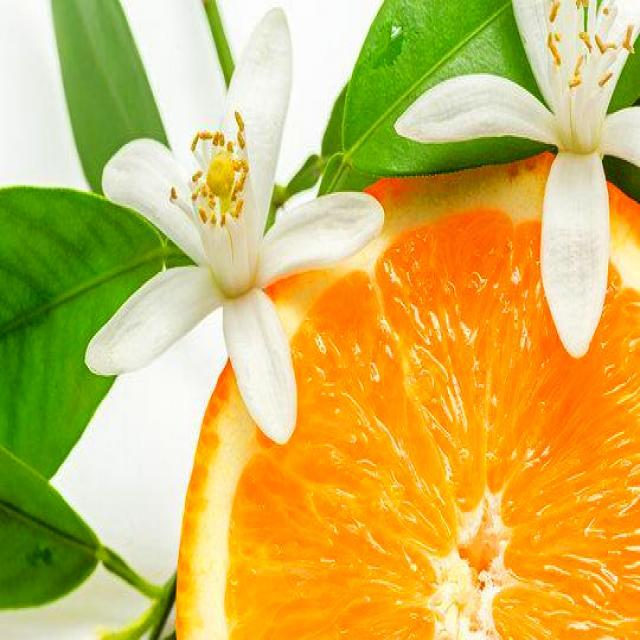Bunga: (85, 3, 384, 444), (392, 0, 640, 359)
